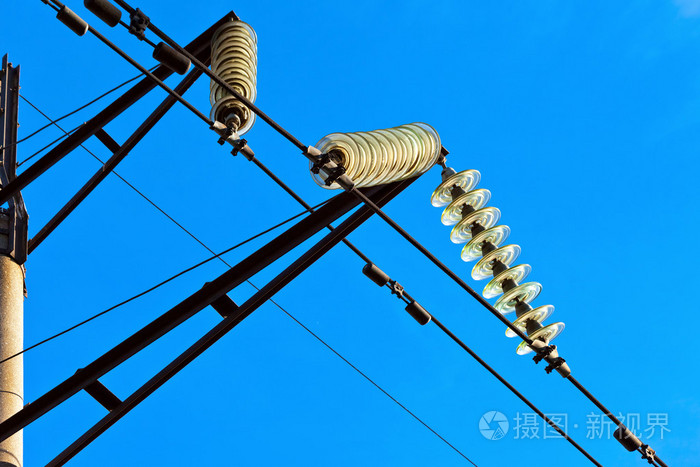insulator: (436, 167, 566, 358), (311, 119, 445, 188), (208, 19, 260, 132)
